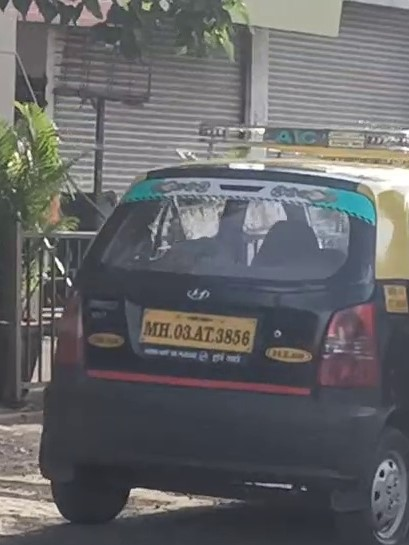MH03AT3856: (139, 308, 257, 351)
